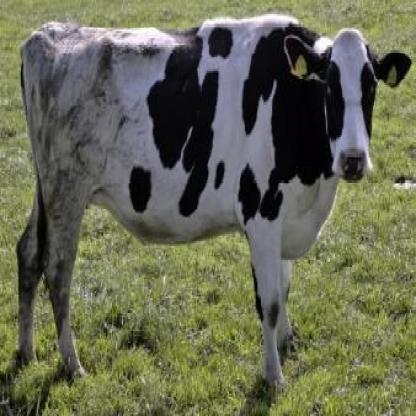cow: (17, 12, 413, 383)
